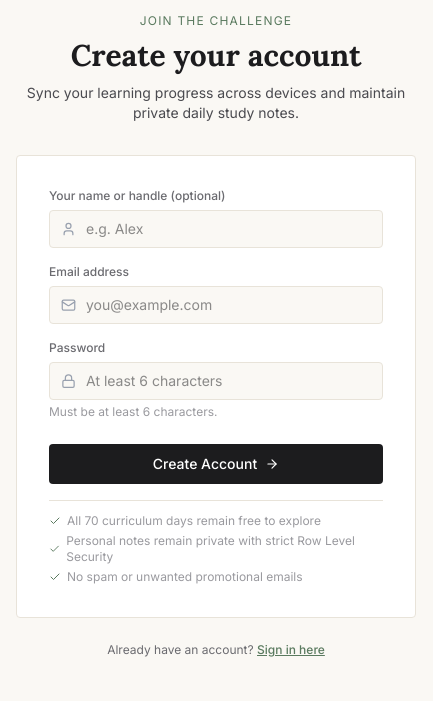
it: Authentication Pages & Flows › SignUpPage › handles existing account error (empty identities)
This screenshot has width=433, height=701.
Type "existing@example.com" into the field with placeholder "you@example.com".
click(216, 304); type("existing@example.com")  # box top-left (49, 286), bottom-right (383, 324)
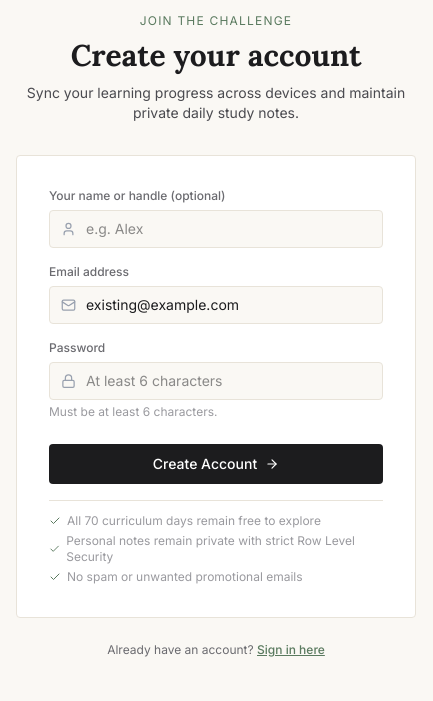
Type "securepassword123" into the password field with placeholder "At least 6 characters".
click(216, 380); type("securepassword123")  # box top-left (49, 362), bottom-right (383, 400)
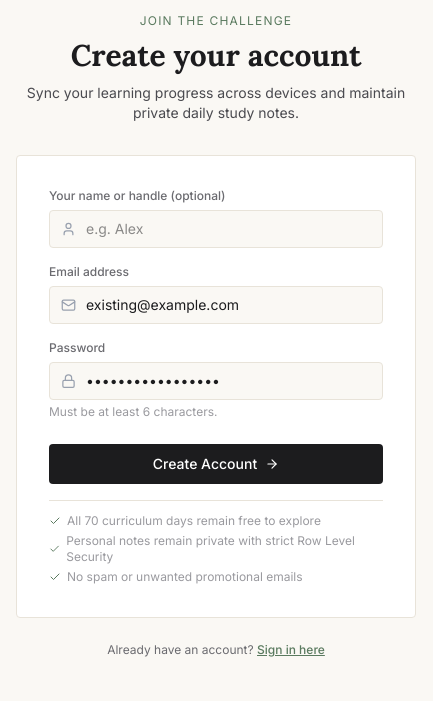
Click the button "Create Account".
click(216, 464)  # box top-left (49, 444), bottom-right (383, 484)
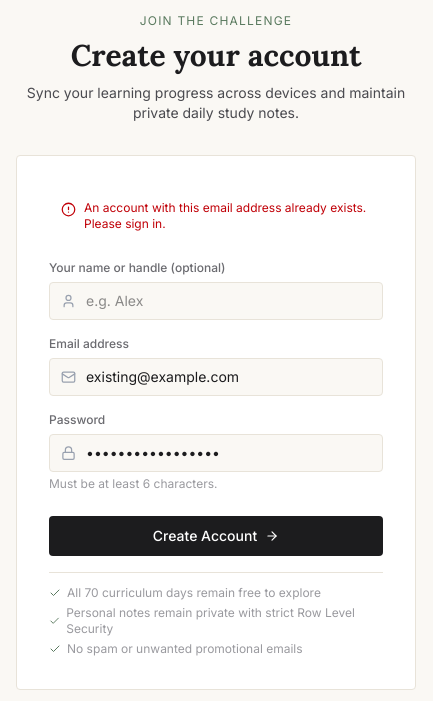
Expected: the text "An account with this email address already exists. Please sign in." is shown, top-left (84, 200), bottom-right (371, 232)
